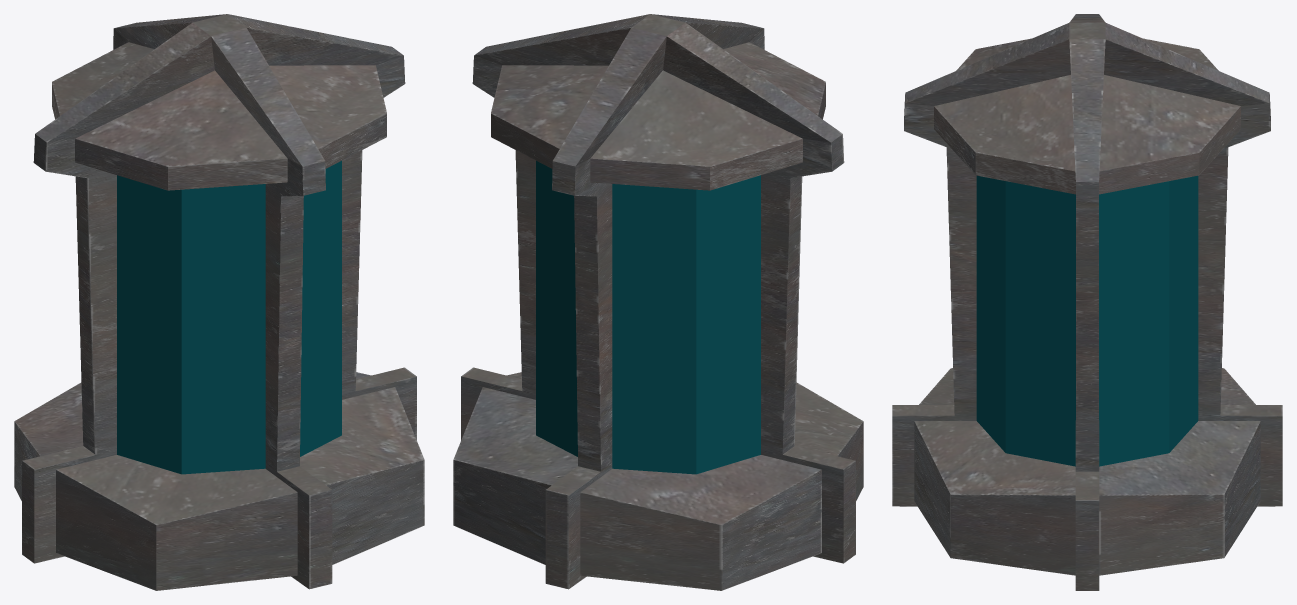
File: Lantern.glb
The picture shows the model from 3 angles, left to right: view 1: azimuth 30°, elevation 25°; view 2: azimuth 150°, elevation 25°; view 3: azimuth 270°, elevation 25°; orthographic projection. The views are drawn at different scales.
Visible parts, largest first — view 1: Cube; view 2: Cube; view 3: Cube.
Boxes of the visible parts, x1,y1,x2,y2 form: Cube: [14, 14, 424, 590]; Cube: [453, 14, 863, 590]; Cube: [892, 14, 1282, 590].
Size of the model in its own units: 1.06 by 1.3 by 0.9757.
2 materials, 2 textured.
